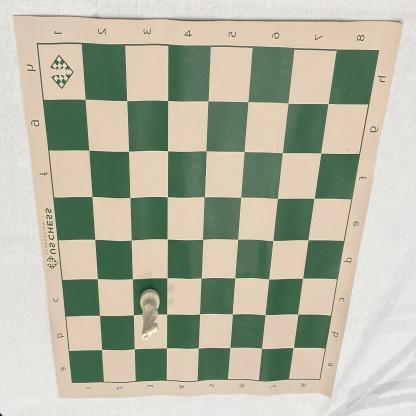white-knight: (139, 288, 161, 341)
